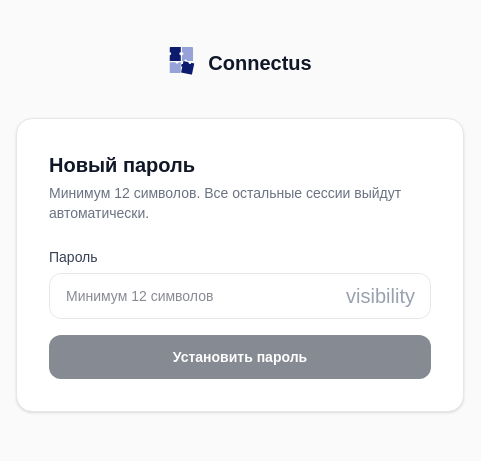
Test: ResetPasswordPage › shows an error message when the reset fails
Type "supersecretpw123" into the password field with placeholder "Минимум 12 символов" at (240, 296), box left=49, top=272, right=431, bottom=318
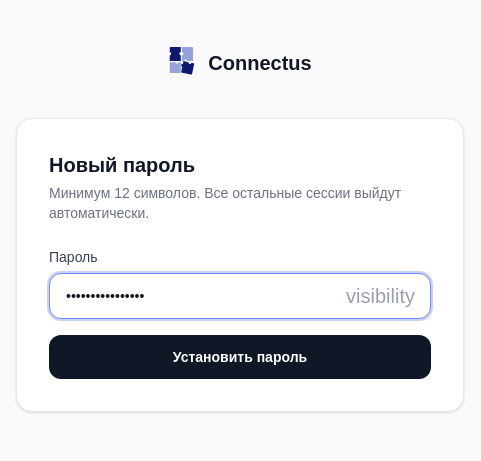
Click the button "Установить пароль" at (240, 356), box left=49, top=334, right=431, bottom=378
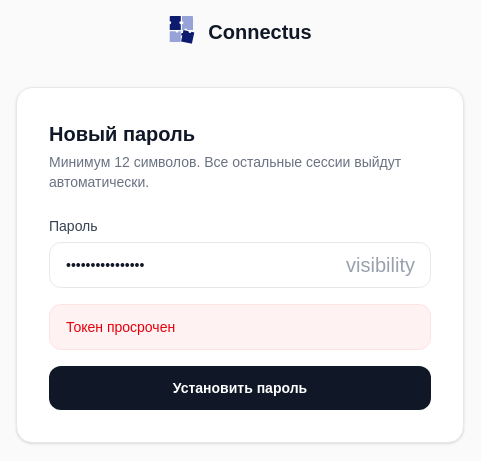
Check: the text "Токен просрочен" is shown, box left=49, top=304, right=431, bottom=350
